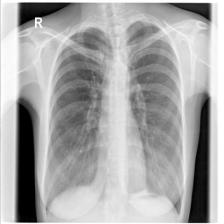tuberculosis: (39, 14, 187, 224)
